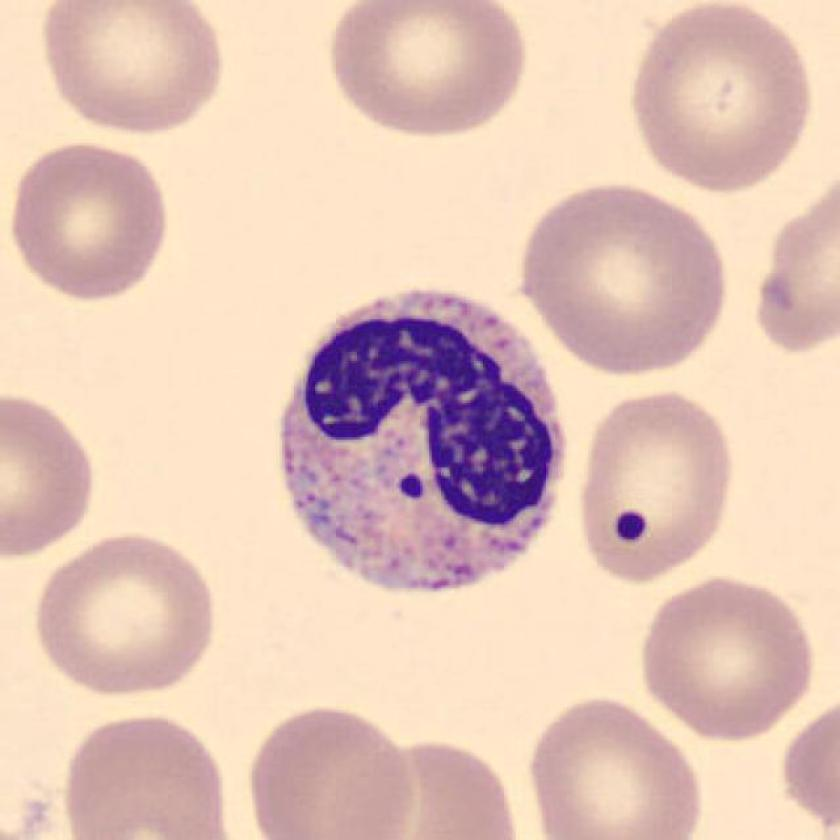neutrophil: (270, 290, 568, 596)
